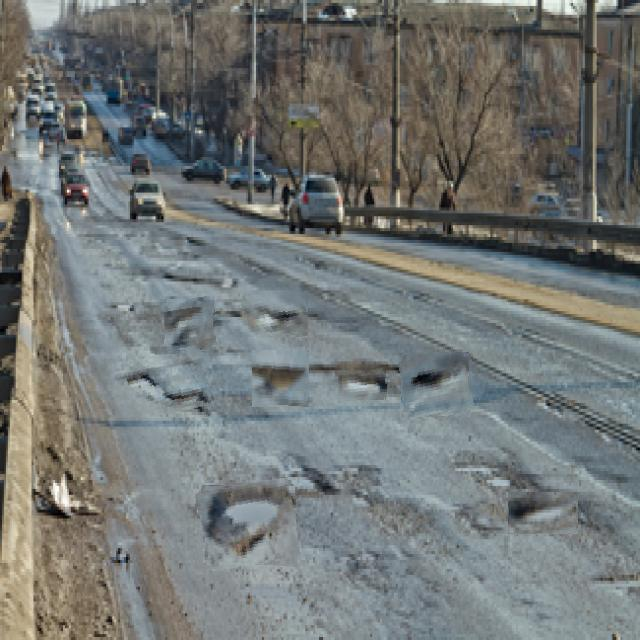Pothole: (198, 481, 298, 569), (114, 348, 212, 417), (401, 352, 473, 420), (252, 350, 309, 407), (242, 291, 308, 337), (508, 492, 578, 534), (164, 298, 216, 350), (338, 369, 387, 401)
